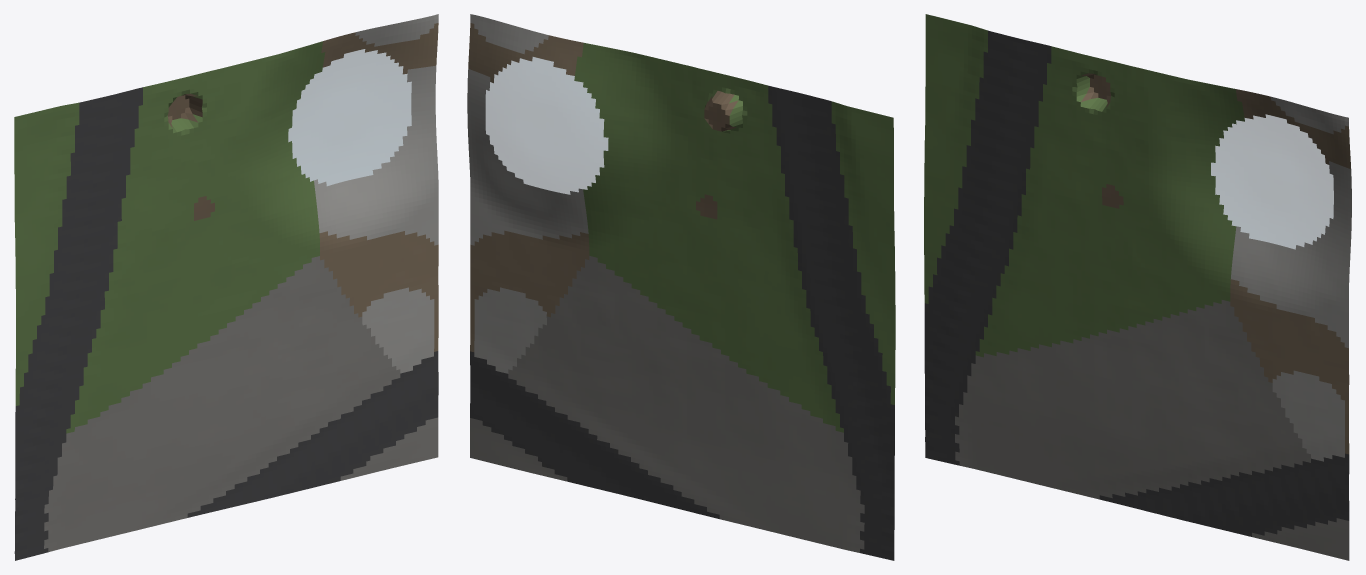
Rendered from SARM_SAR_Terrain_03_01.glb.
The picture shows the model from 3 angles, left to right: view 1: azimuth 30°, elevation 25°; view 2: azimuth 150°, elevation 25°; view 3: azimuth 330°, elevation 25°; orthographic projection.
Parts seen in each view (by area): view 1: SAR_Terrain_03_01.001; view 2: SAR_Terrain_03_01.001; view 3: SAR_Terrain_03_01.001.
Part boxes in pixels (x1,y1,x2,y2): SAR_Terrain_03_01.001: (14,14,438,560); SAR_Terrain_03_01.001: (467,14,895,560); SAR_Terrain_03_01.001: (924,14,1351,560).
Bounding box in the file's own units: 50 × 50 × 2.33.
